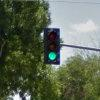Traffic light: (36, 20, 71, 75)
